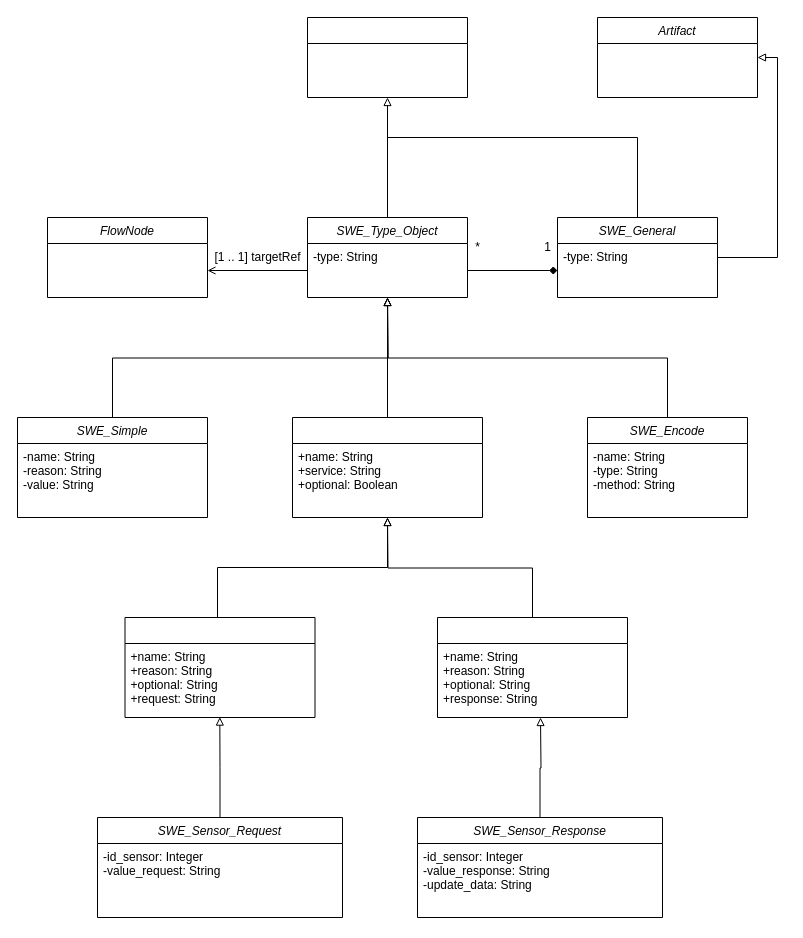
Image size: 803x938. Some labels were removed from this diagram. Each missing label, with the box of its shape:
SWE_Basic: (306, 16, 468, 98)
SWE_Data_Type: (292, 416, 482, 518)
SWE_Request: (124, 616, 315, 718)
SWE_Response: (436, 616, 628, 718)
